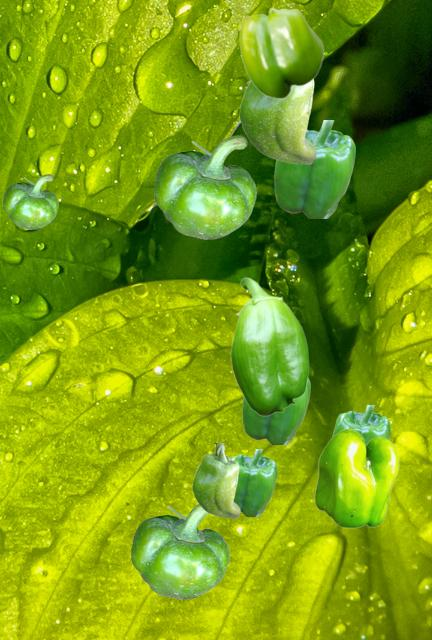bell_pepper: (230, 277, 308, 415), (154, 135, 255, 238), (131, 504, 228, 598), (314, 428, 398, 527), (274, 120, 354, 217), (239, 7, 323, 98), (239, 80, 315, 163), (242, 378, 309, 443), (192, 443, 239, 517), (230, 449, 276, 515), (3, 174, 57, 228), (332, 405, 389, 442)
